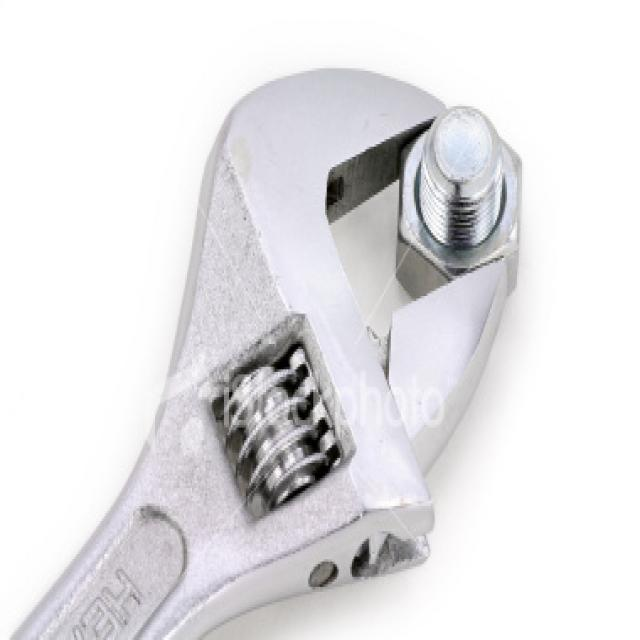wrench: (0, 53, 512, 640)
